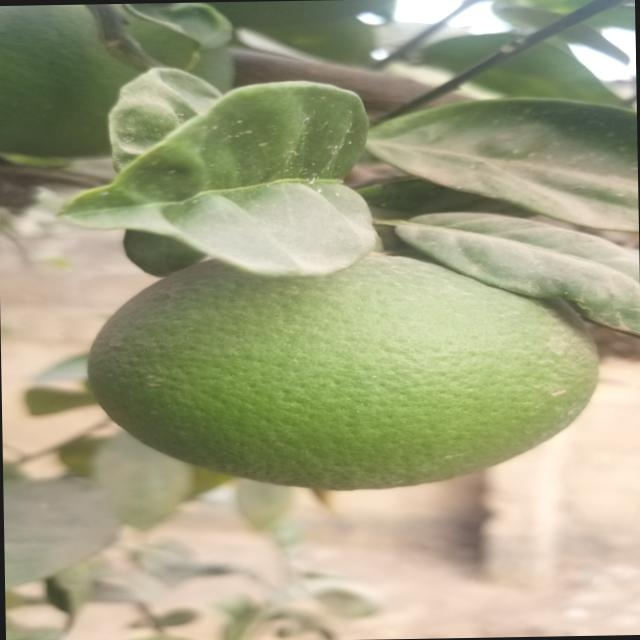agrume: (80, 238, 597, 494)
